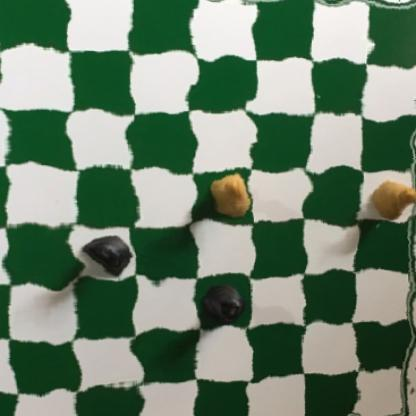black-bishop: (85, 234, 134, 275), (198, 285, 243, 328)
white-bishop: (200, 171, 253, 217), (368, 176, 416, 220)
